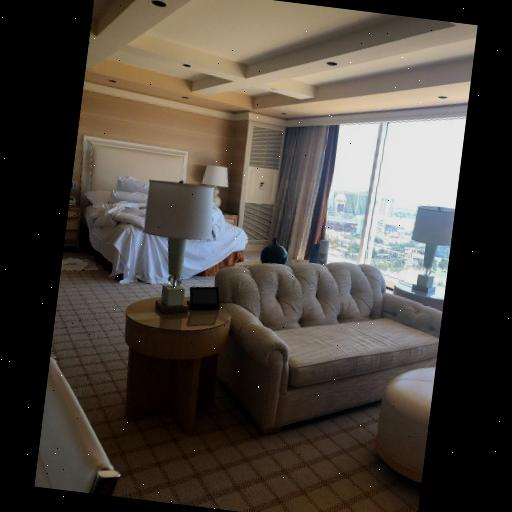lamp: (135, 178, 216, 320), (406, 202, 455, 302)
messy_bed: (79, 135, 242, 283)
organized table: (114, 278, 234, 440)
